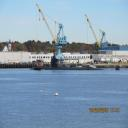submarine: (32, 57, 121, 72)
